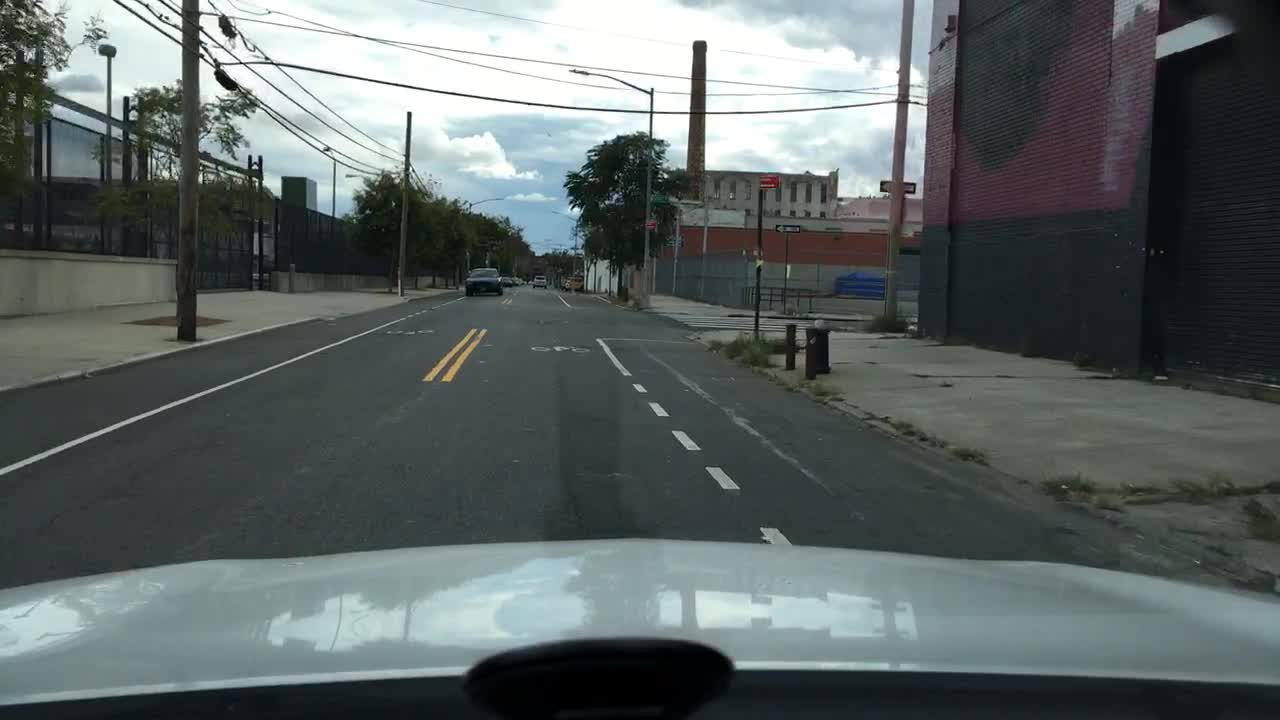car: (464, 267, 505, 300), (558, 274, 584, 291), (527, 275, 547, 290), (502, 277, 515, 286)
traffic sign: (879, 181, 915, 197), (774, 218, 800, 236), (756, 173, 779, 189), (651, 194, 673, 206)
